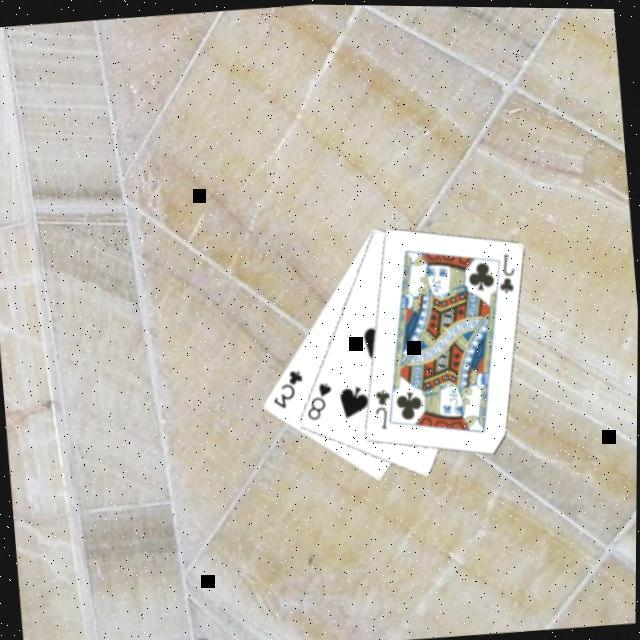3C: (264, 364, 306, 411)
8S: (299, 377, 335, 422)
JC: (368, 383, 394, 431), (491, 247, 517, 295)
